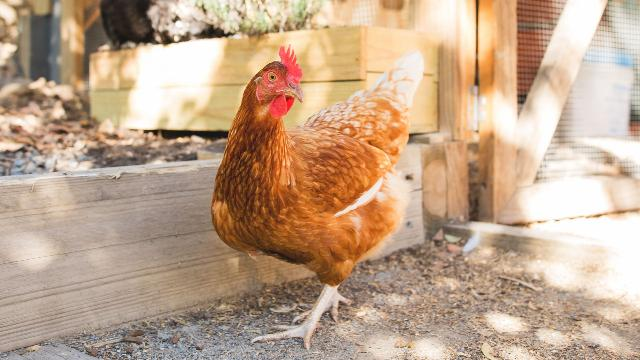Chicken: (212, 43, 425, 350)
